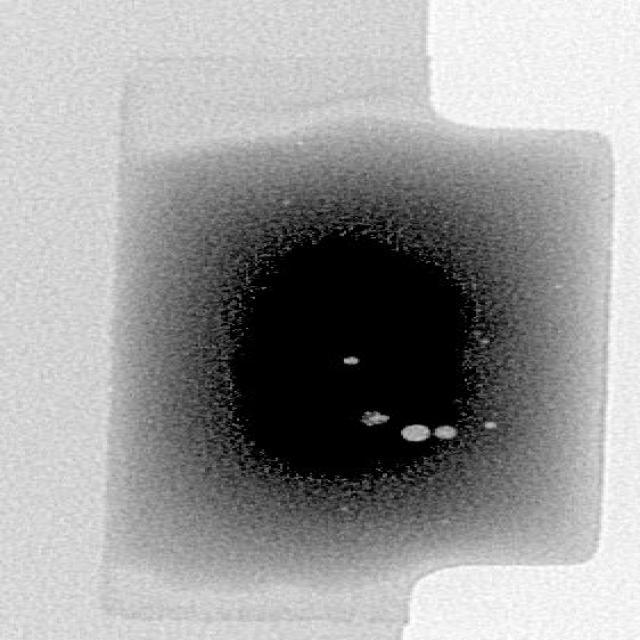chip: (104, 55, 611, 625)
void: (401, 426, 430, 441), (360, 411, 389, 426), (434, 426, 457, 439), (344, 356, 359, 365), (485, 422, 496, 428)
